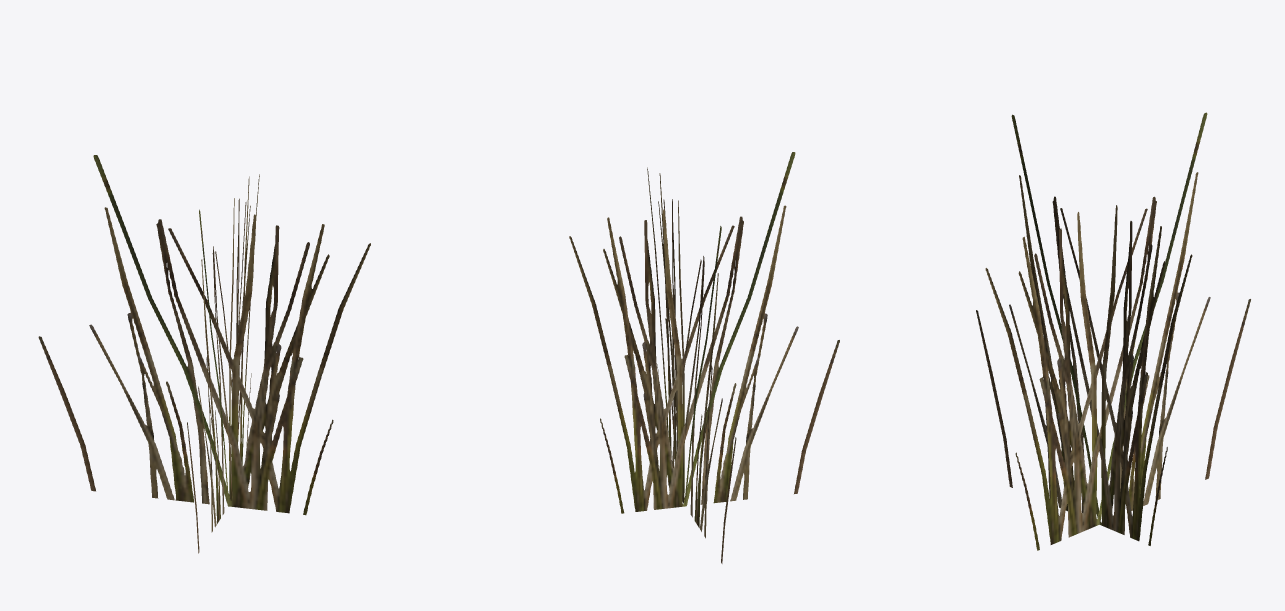
The model's file is Grama1.fbx.
The picture shows the model from 3 angles, left to right: view 1: azimuth 30°, elevation 25°; view 2: azimuth 150°, elevation 25°; view 3: azimuth 270°, elevation 25°; orthographic projection. The views are drawn at different scales.
Parts seen in each view (by area): view 1: Grama1; view 2: Grama1; view 3: Grama1.
Part boxes in pixels (x1,y1,x2,y2): Grama1: (38,155,370,553); Grama1: (569,152,839,563); Grama1: (976,112,1250,550).
Size of the model in its own units: 53.98 by 76.34 by 53.98.
